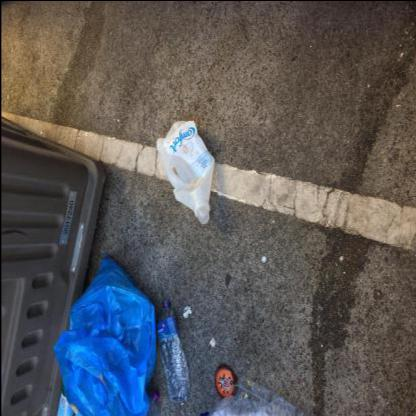Aluminium foil: (182, 304, 190, 317)
Bottle: (193, 200, 209, 223), (151, 389, 159, 399), (260, 256, 266, 262)
Bottle cap: (155, 120, 213, 223), (155, 300, 189, 402), (198, 394, 307, 415), (144, 390, 158, 416)
Lid: (213, 363, 235, 397)
Other plastic: (54, 384, 76, 416)
Plastic bag - wrapper: (52, 252, 156, 415)
Plastic container: (232, 375, 290, 403)
Unlabeled litter: (208, 336, 215, 346)
